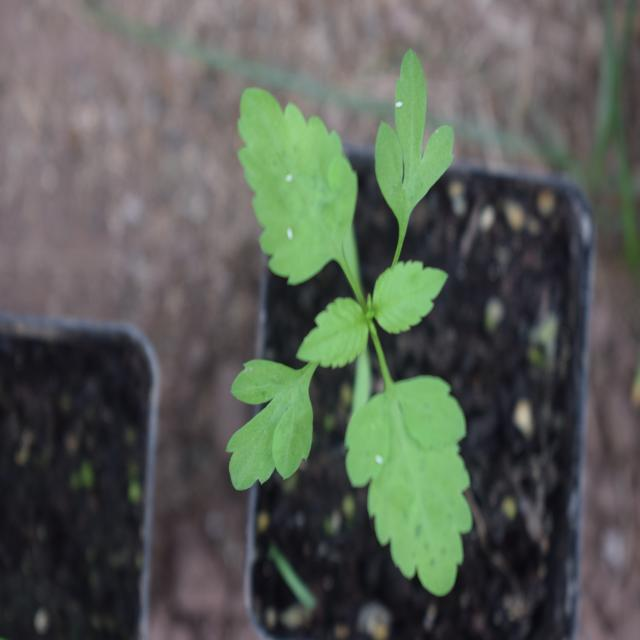Bidens pilosa: (213, 41, 478, 606)
